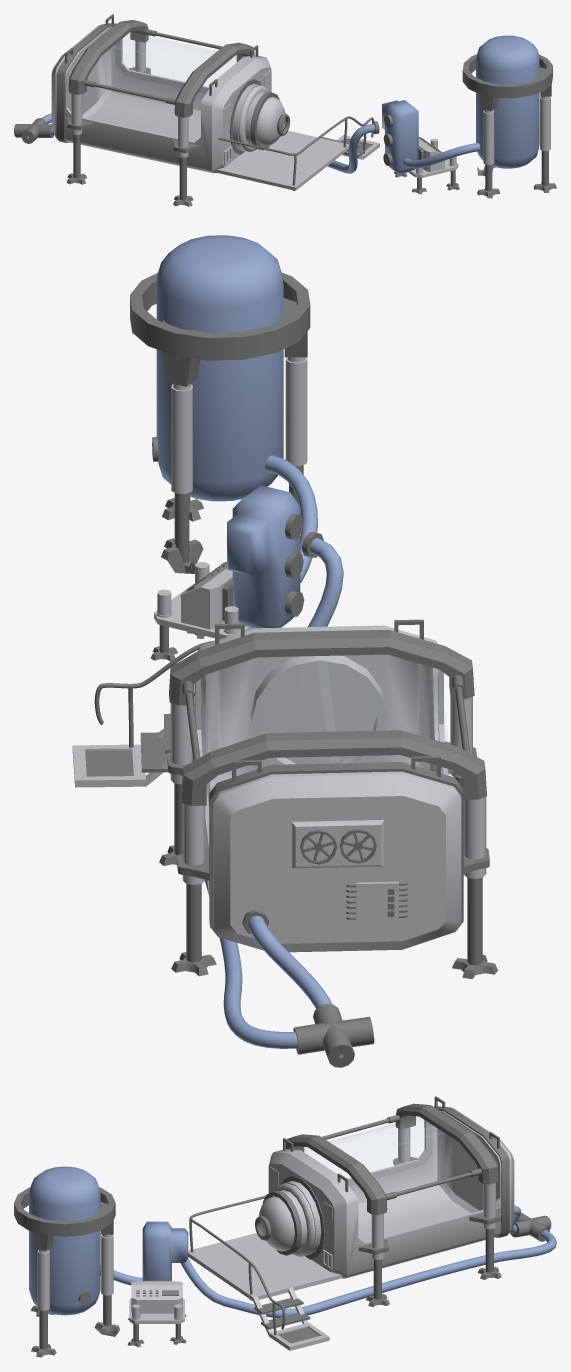
Rendered from Estacion.fbx.
3 views of the same model, one above another, from view 1: azimuth 30°, elevation 25°; view 2: azimuth 150°, elevation 25°; view 3: azimuth 270°, elevation 25° (orthographic). The views are drawn at different scales.
Parts seen in each view (by area): view 1: Maquina, Contenedor, Aparato1, Manguera2, Mangera; view 2: Maquina, Contenedor, Aparato1, Manguera2, Mangera; view 3: Maquina, Contenedor, Aparato1, Manguera2.
Boxes of the visible parts, x1,y1,x2,y2 form: Maquina: [51, 14, 379, 206]; Contenedor: [462, 35, 556, 198]; Aparato1: [382, 100, 459, 194]; Manguera2: [14, 113, 379, 173]; Mangera: [403, 143, 480, 168]; Maquina: [72, 619, 497, 978]; Contenedor: [130, 235, 310, 573]; Aparato1: [150, 485, 304, 661]; Manguera2: [205, 532, 374, 1067]; Mangera: [265, 455, 317, 582]; Maquina: [188, 1096, 514, 1350]; Contenedor: [14, 1166, 119, 1357]; Aparato1: [128, 1221, 188, 1347]; Manguera2: [171, 1205, 556, 1317].
Bounding box in the file's own units: 984 × 526 × 1260.
